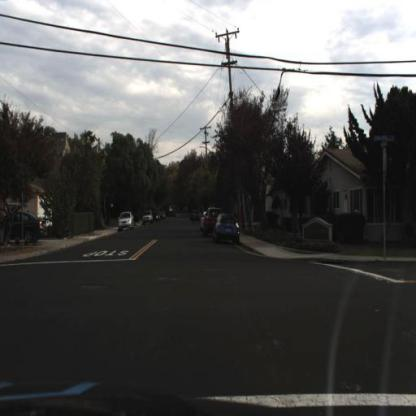car: (1, 209, 49, 244), (213, 209, 243, 249), (212, 212, 242, 246), (202, 206, 222, 239), (201, 208, 213, 239), (140, 206, 156, 227), (119, 212, 135, 232)
